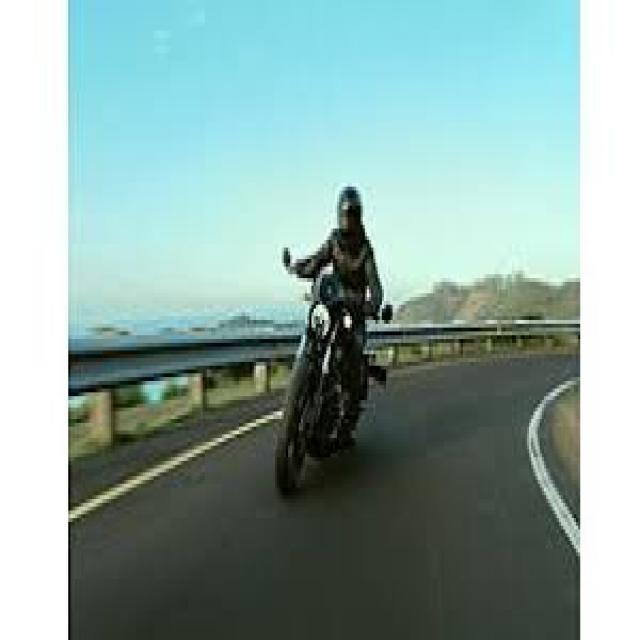Bike: (270, 250, 394, 495)
